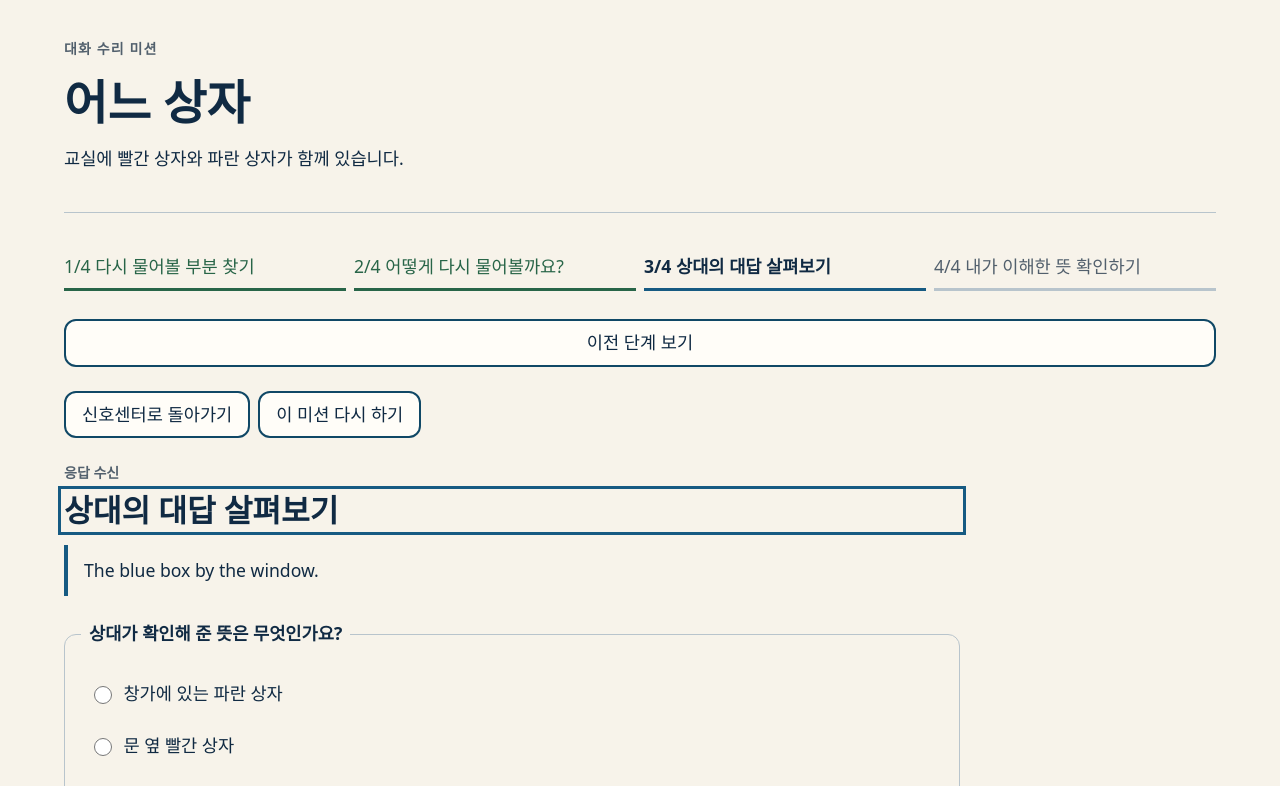
it: ResponseReception › keeps a wrong meaning choice in response with the exact slot hint and no answer leak
The image size is (1280, 786).
What coordinates should you click on to do the following:
click the radio button labelled "문 옆 빨간 상자"
I would click on:
 (103, 747)
Its box is [94,738,112,756].
(page scrolled)
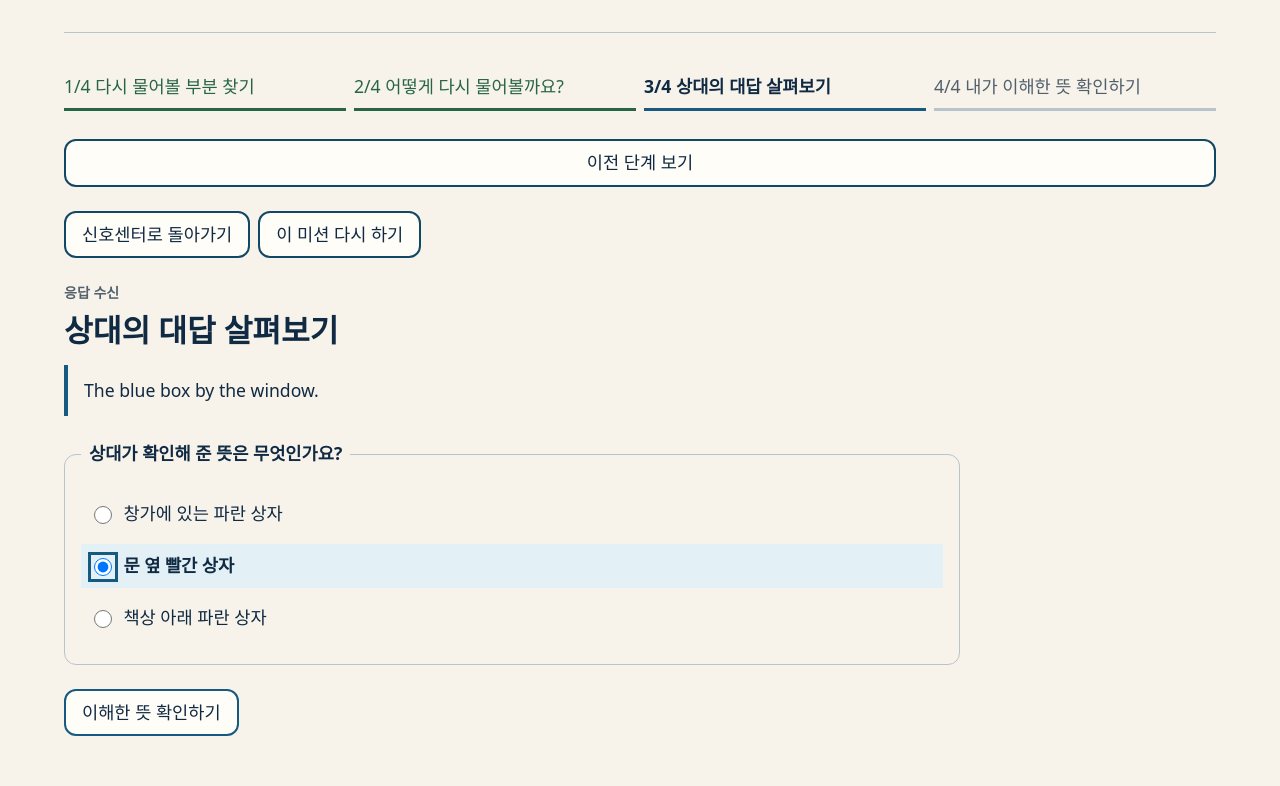
What coordinates should you click on to do the following:
click the button "이해한 뜻 확인하기"
I would click on:
 (151, 712)
Its box is [64,689,239,736].
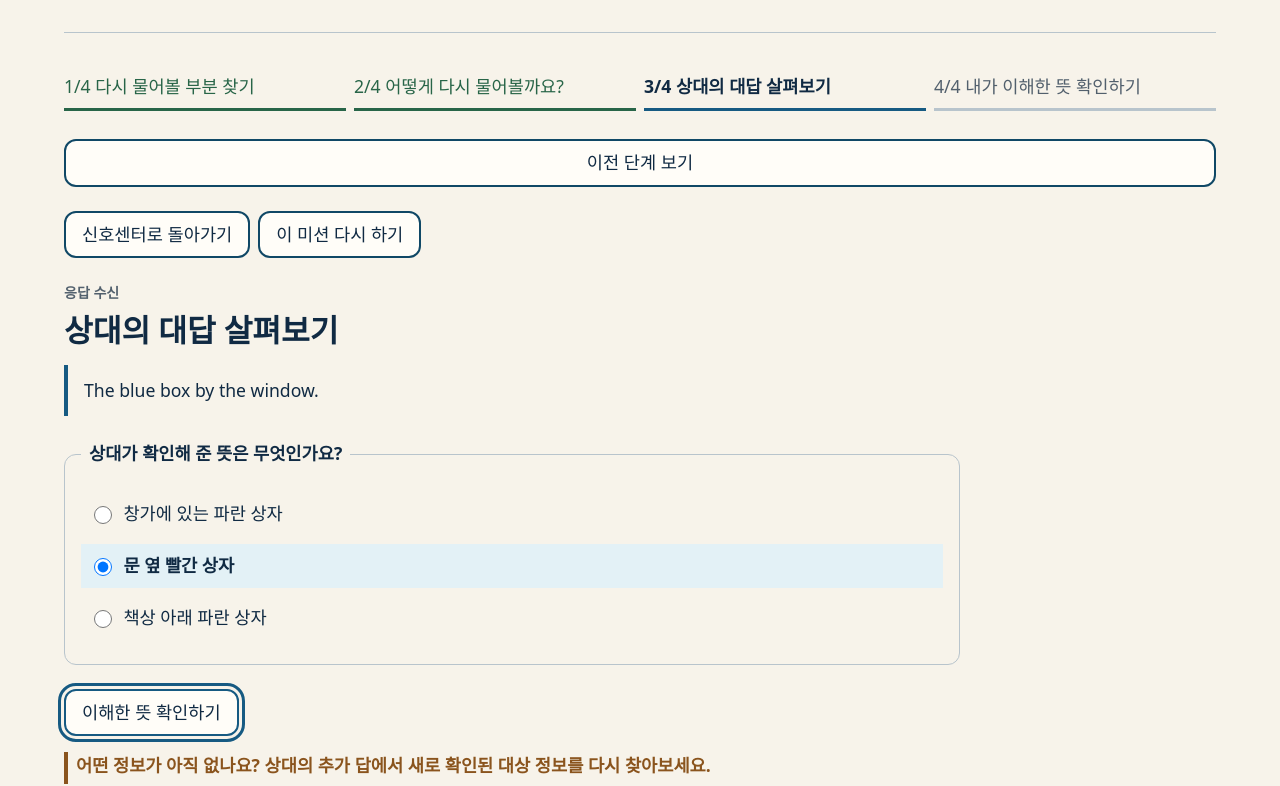
Expected: the heading "상대의 대답 살펴보기" is shown, [64,309,338,351]
Expected: the radio button labelled "문 옆 빨간 상자" is checked, [94,558,112,576]
Expected: the message reads "어떤 정보가 아직 없나요? 상대의 추가 답에서 새로 확인된 대상 정보를 다시 찾아보세요.", [76,753,711,777]
